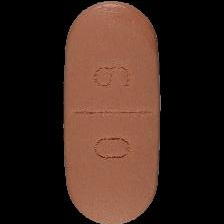13107-003: (0, 0, 224, 224)
